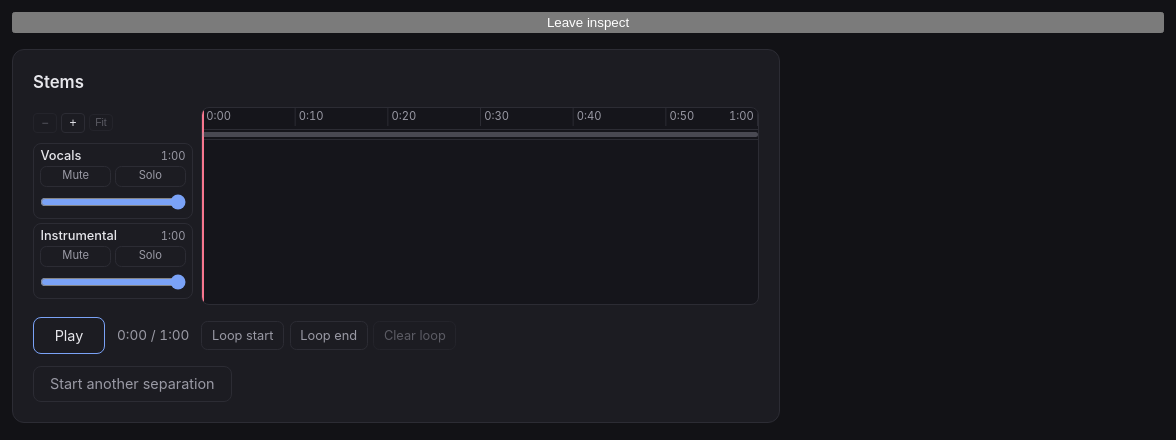
StemSessionProvider disposal › disposes and resets when the job is cleared
Expected: the button with aria-label "Mute vocals" is shown, [40, 166, 111, 187]
Expected: the button "Play" is enabled, [33, 317, 105, 354]
Click the button "Start another separation": (132, 384) [33, 366, 232, 402]
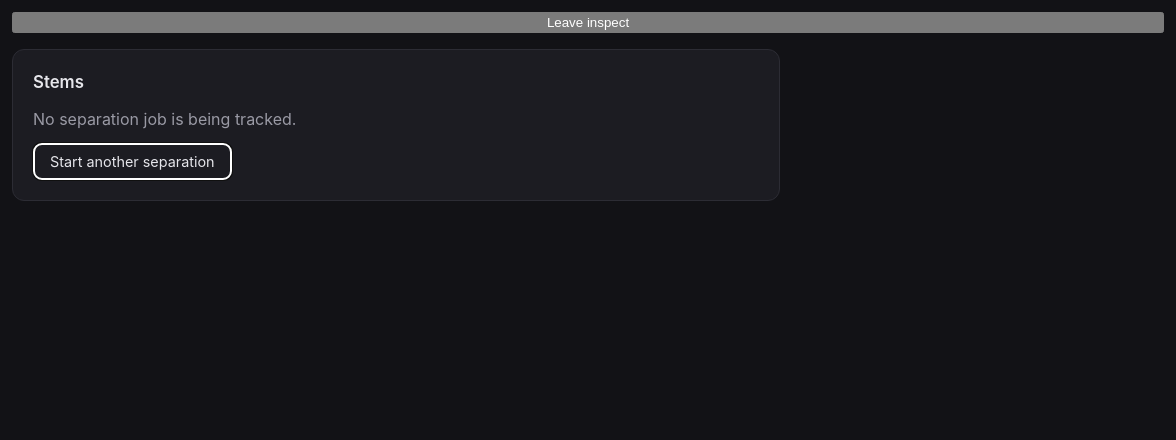
Result: the text "No separation job is being tracked." is shown at [33, 109, 296, 129]
